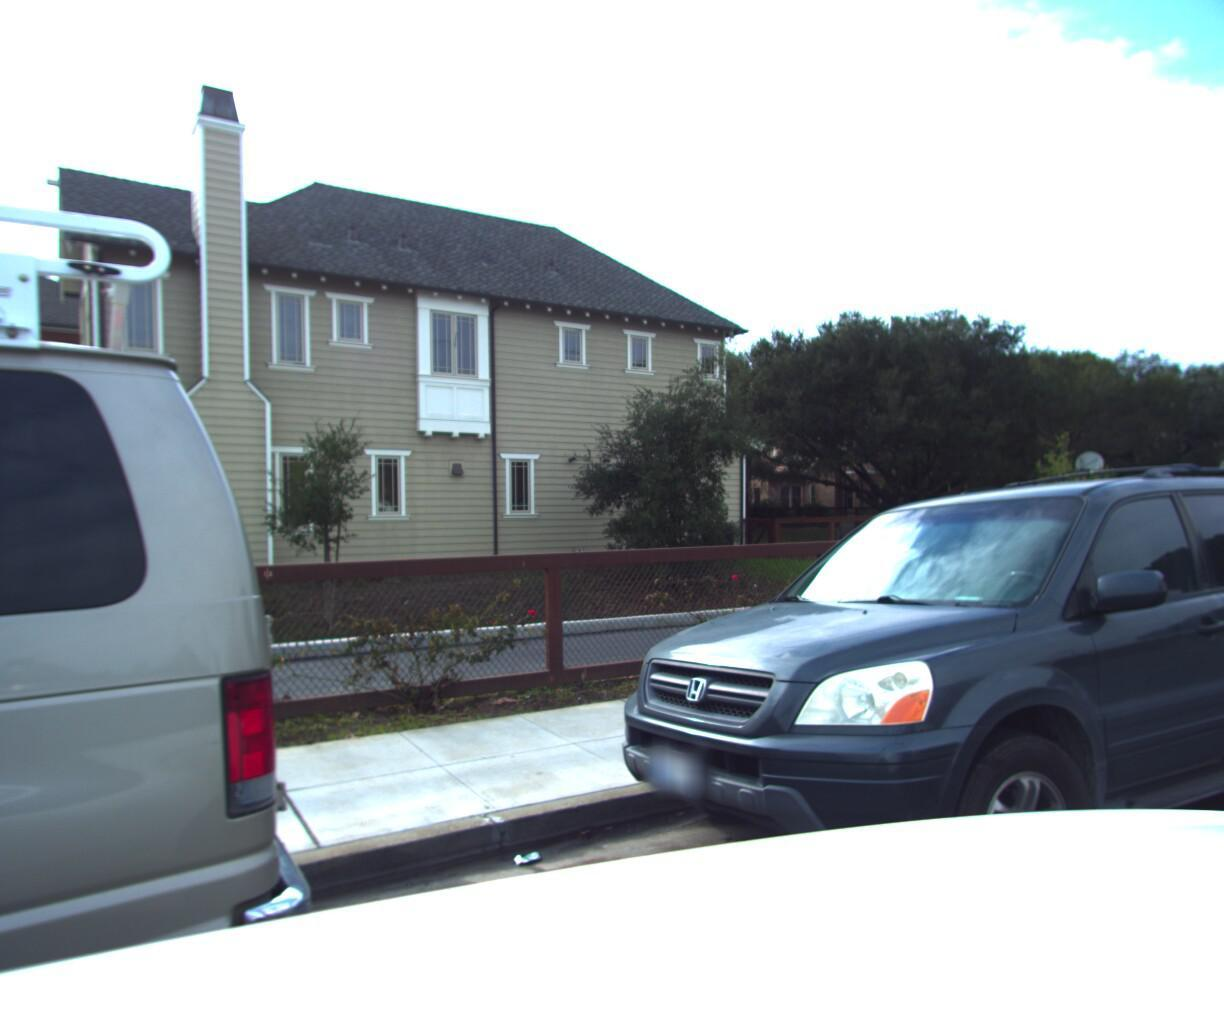car: (562, 427, 1224, 1024)
